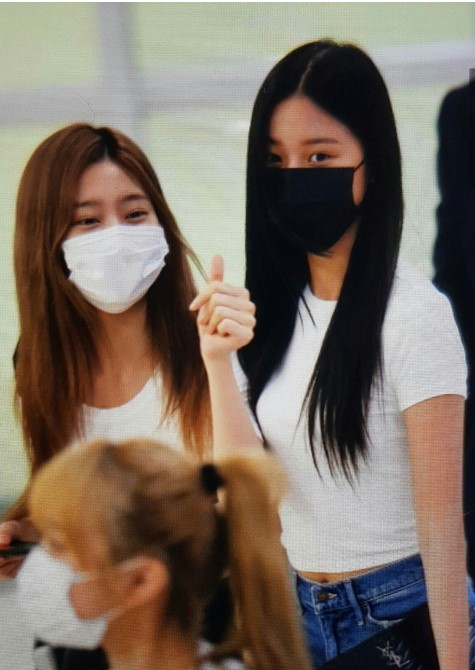face_with_mask: (13, 446, 203, 652), (34, 131, 175, 318), (249, 52, 376, 255)
